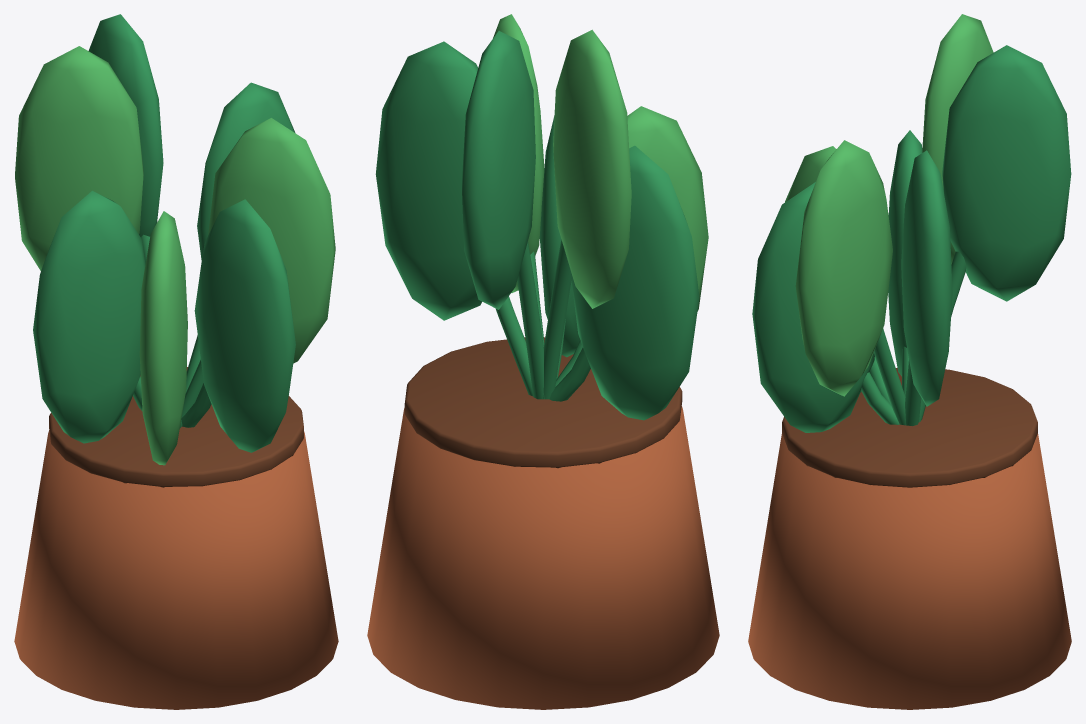
Rendered from plant-blender.glb.
3 renders of one model, left to right at view 1: azimuth 30°, elevation 25°; view 2: azimuth 150°, elevation 25°; view 3: azimuth 270°, elevation 25°, orthographic. The views are drawn at different scales.
Parts seen in each view (by area): view 1: plant · Terracotta, plant · Leaf green, plant · Fresh leaf, plant · Walnut; view 2: plant · Terracotta, plant · Leaf green, plant · Fresh leaf, plant · Walnut; view 3: plant · Terracotta, plant · Leaf green, plant · Fresh leaf, plant · Walnut.
Boxes of the visible parts, x1,y1,x2,y2 form: plant · Terracotta: (14,430,338,709); plant · Leaf green: (33,14,295,452); plant · Fresh leaf: (15,46,335,465); plant · Walnut: (49,367,303,487); plant · Terracotta: (367,406,719,709); plant · Leaf green: (375,31,699,420); plant · Fresh leaf: (493,14,708,311); plant · Walnut: (404,337,682,468); plant · Terracotta: (748,433,1071,709); plant · Leaf green: (752,45,1071,432); plant · Fresh leaf: (785,14,993,396); plant · Walnut: (782,368,1037,487).
Bounding box in the file's own units: 0.48 × 0.97 × 0.48.
